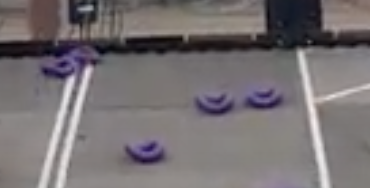ring: (194, 90, 234, 114), (245, 86, 283, 109), (125, 139, 164, 161), (40, 56, 77, 76), (66, 45, 101, 64)
